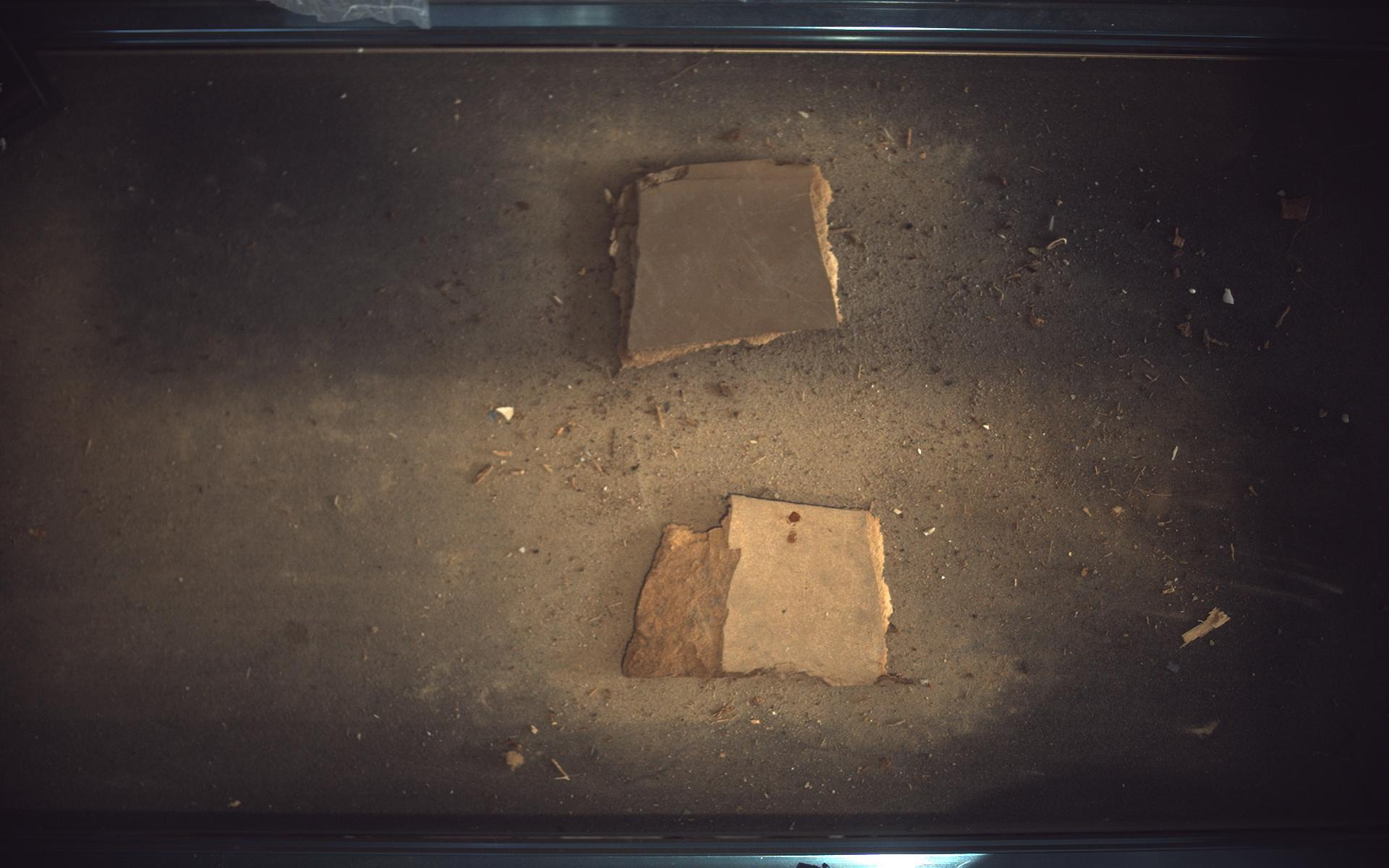wood: (624, 495, 893, 686), (611, 158, 844, 367)
